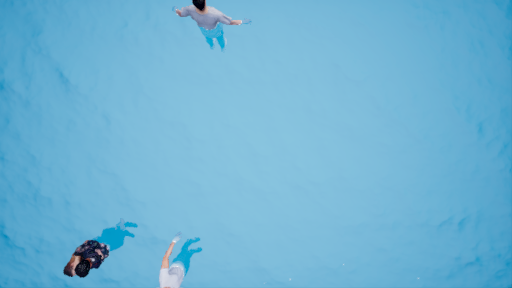person: (64, 212, 134, 281), (152, 227, 201, 288)
